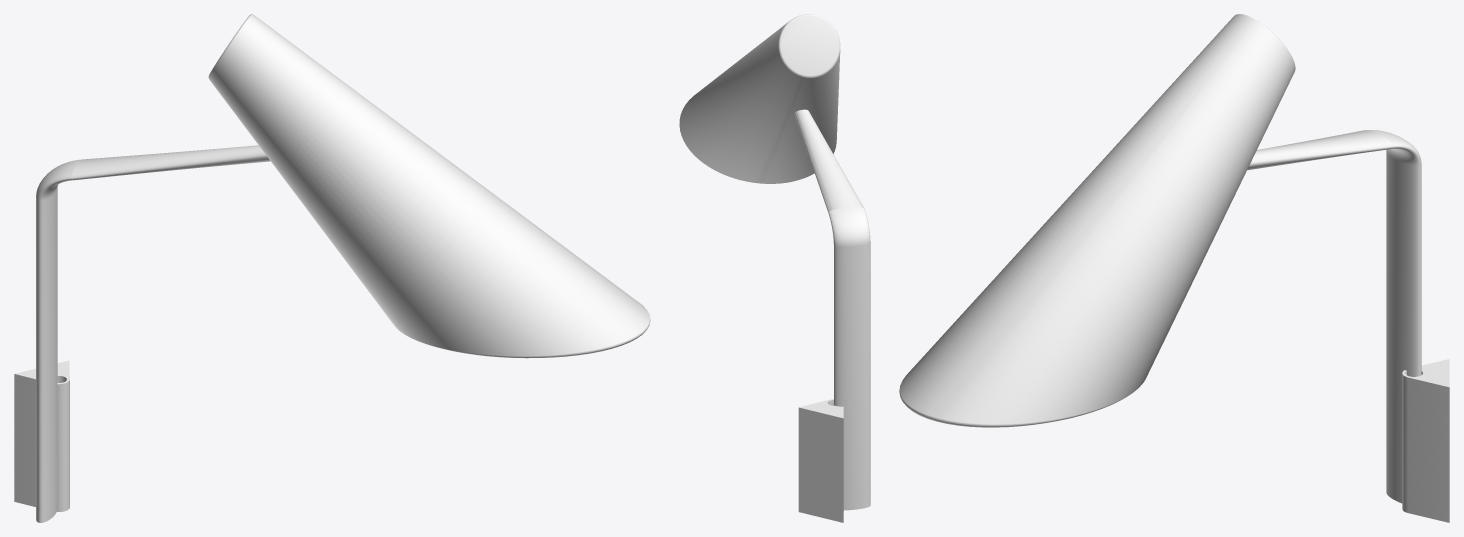
Rendered from camera.obj.
3 renders of one model, left to right at view 1: azimuth 30°, elevation 25°; view 2: azimuth 150°, elevation 25°; view 3: azimuth 270°, elevation 25°, orthographic. The views are drawn at different scales.
Visible parts, largest first — view 1: Mesh3 Component_4_1 Group1 Model, Mesh2 Group_3_1 Group1 Model, Mesh1 Component_5_1 Group1 Model; view 2: Mesh3 Component_4_1 Group1 Model, Mesh2 Group_3_1 Group1 Model, Mesh1 Component_5_1 Group1 Model; view 3: Mesh3 Component_4_1 Group1 Model, Mesh2 Group_3_1 Group1 Model, Mesh1 Component_5_1 Group1 Model.
Boxes of the visible parts, x1,y1,x2,y2 form: Mesh3 Component_4_1 Group1 Model: (208,14,650,358); Mesh2 Group_3_1 Group1 Model: (36,145,270,522); Mesh1 Component_5_1 Group1 Model: (14,360,69,511); Mesh3 Component_4_1 Group1 Model: (679,14,840,183); Mesh2 Group_3_1 Group1 Model: (794,109,870,510); Mesh1 Component_5_1 Group1 Model: (798,399,843,522); Mesh3 Component_4_1 Group1 Model: (899,14,1295,427); Mesh2 Group_3_1 Group1 Model: (1247,130,1421,503); Mesh1 Component_5_1 Group1 Model: (1402,359,1449,522).
Size of the model in its own units: 37.38 by 45.43 by 41.18.
Materials: 1 (1 with a texture image).
